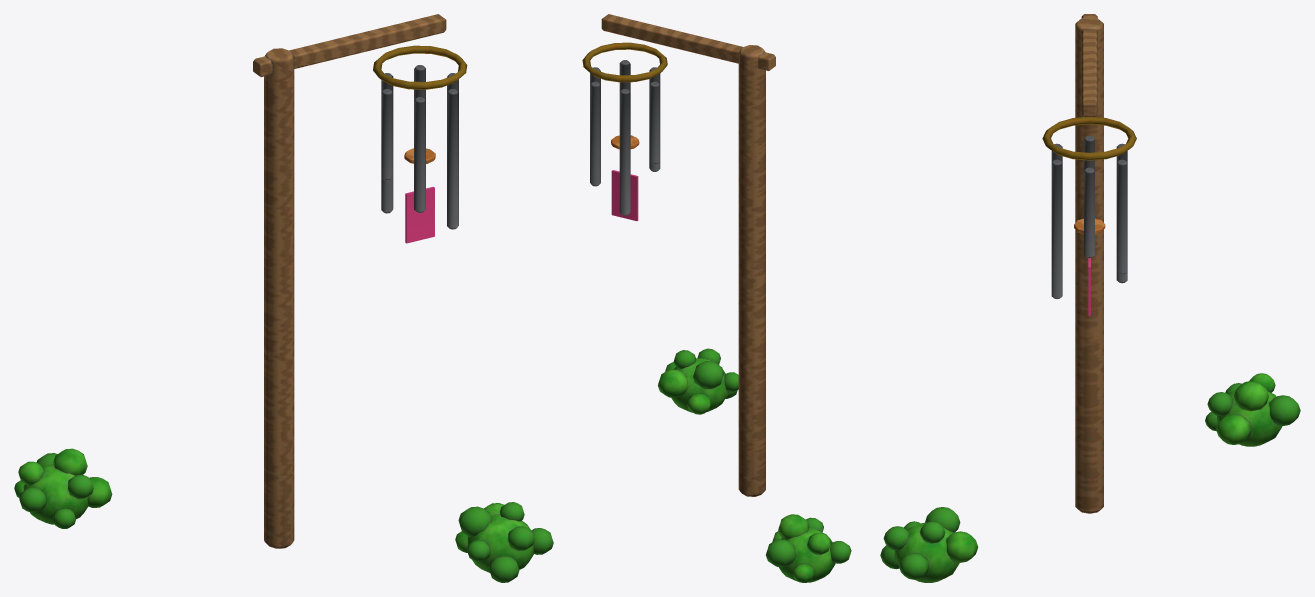
File: windchime.glb
3 views of the same model, side by side, from view 1: azimuth 30°, elevation 25°; view 2: azimuth 150°, elevation 25°; view 3: azimuth 270°, elevation 25° (orthographic). The views are drawn at different scales.
Parts seen in each view (by area): view 1: windchime, swayX_chime; view 2: windchime, swayX_chime; view 3: windchime, swayX_chime.
Boxes of the visible parts, x1,y1,x2,y2 form: windchime: (14, 14, 553, 582); swayX_chime: (373, 45, 467, 243); windchime: (601, 14, 851, 582); swayX_chime: (582, 42, 667, 220); windchime: (880, 14, 1300, 582); swayX_chime: (1042, 117, 1136, 315).
Bounding box in the file's own units: 0.7845 × 1 × 0.7822.
Materials: 1 (1 with a texture image).
